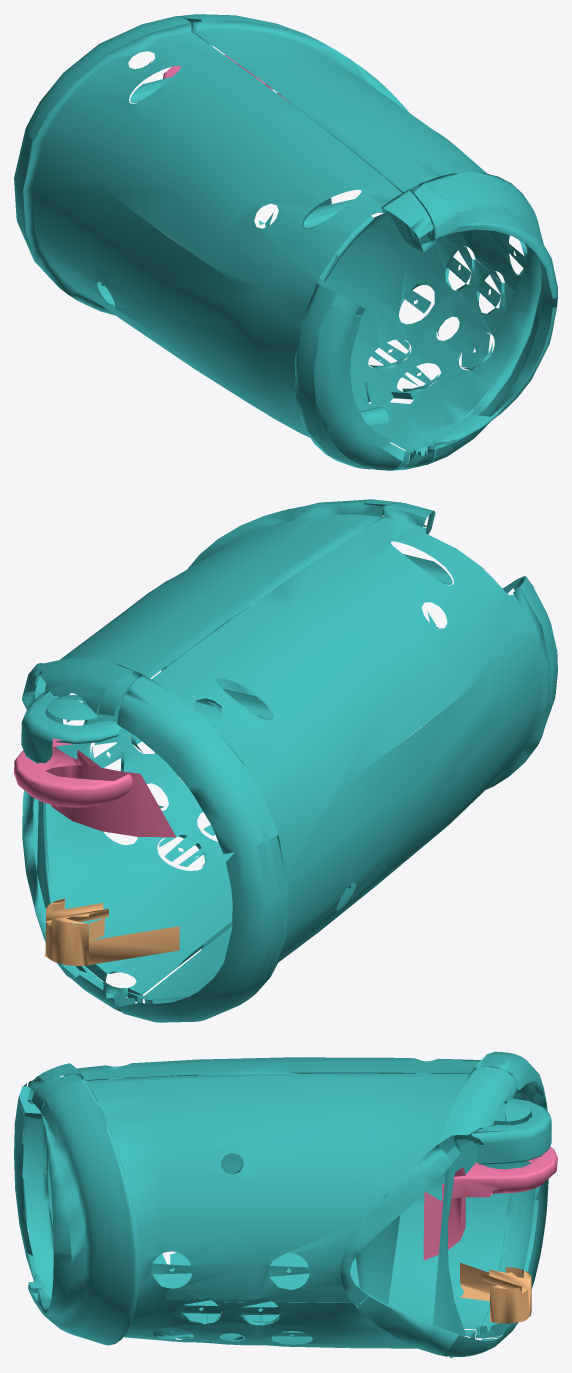
File: sim_icub3_r_upperarm.obj
3 renders of one model, top to bottom at view 1: azimuth 30°, elevation 25°; view 2: azimuth 150°, elevation 25°; view 3: azimuth 270°, elevation 25°, orthographic. The views are drawn at different scales.
Bounding box in the file's own units: 110 × 97.82 × 177.
